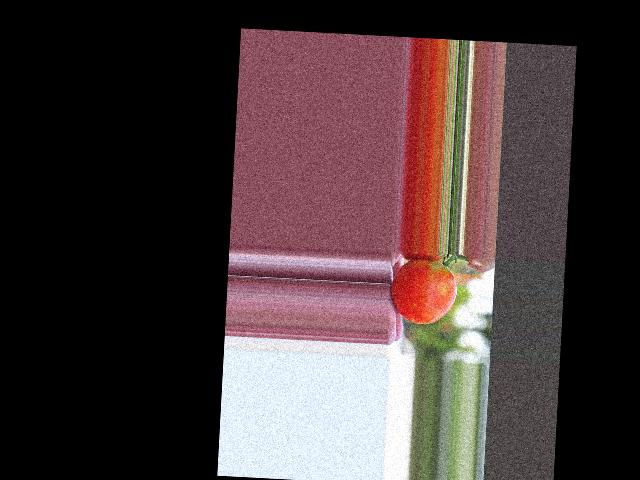tomato: (390, 258, 458, 325)
